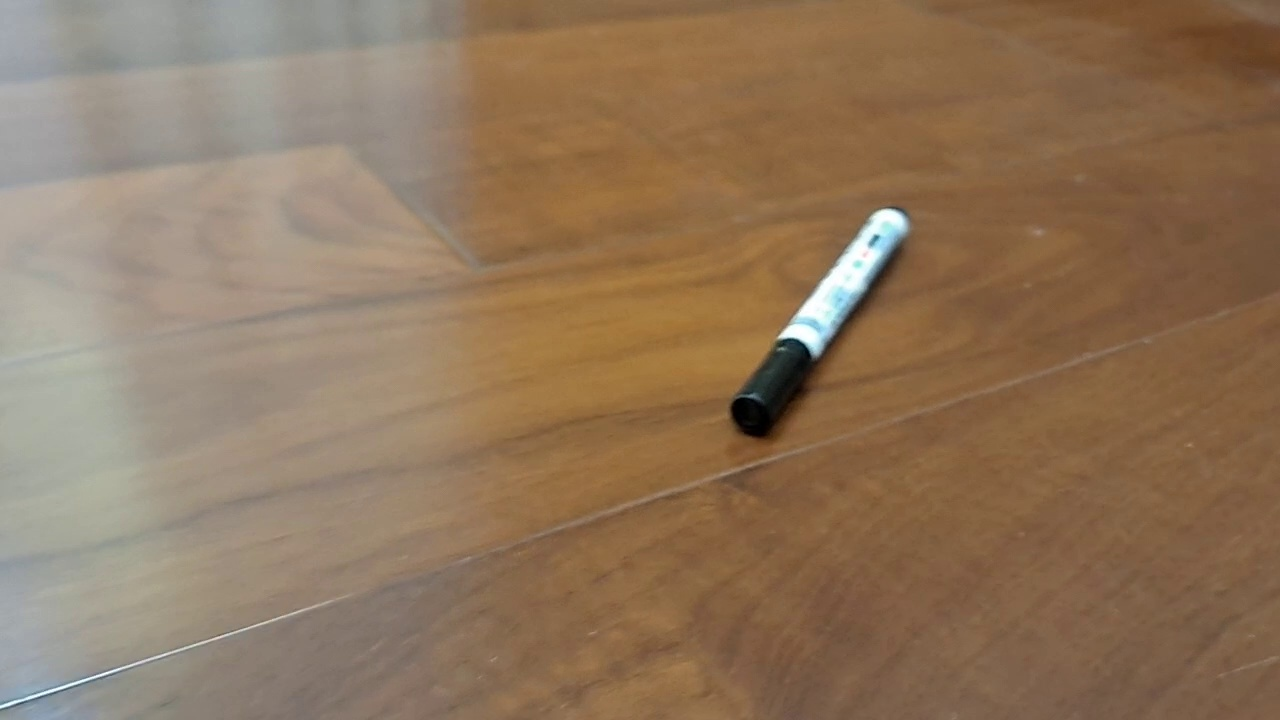pen: (729, 206, 912, 439)
